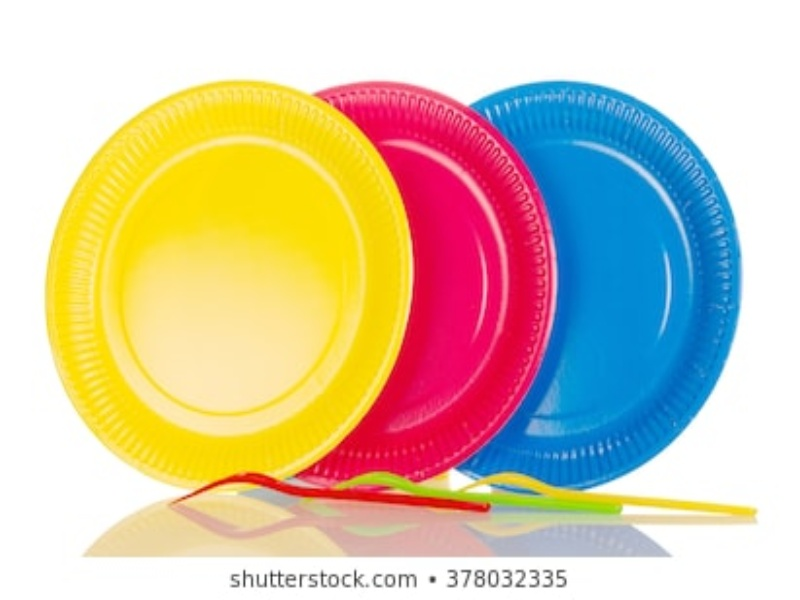plastic-plate: (42, 83, 413, 483), (455, 76, 746, 485), (306, 80, 561, 490)
plastic-silverware: (458, 465, 765, 525), (169, 469, 497, 516), (325, 472, 619, 515)
